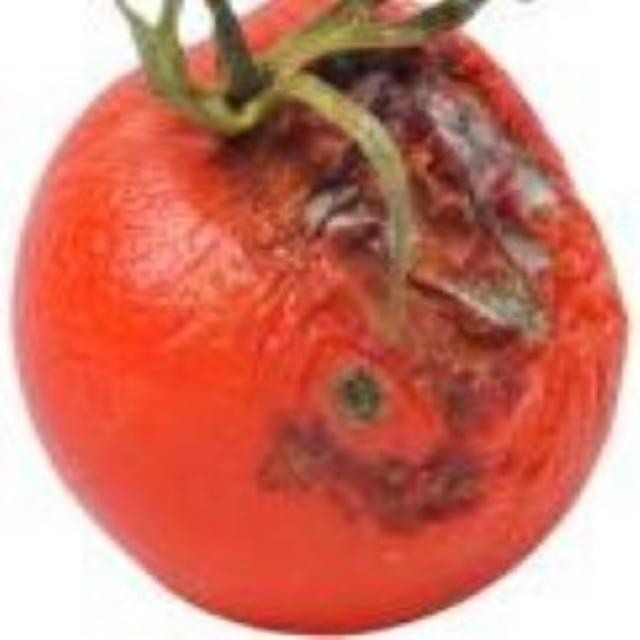defect: (5, 10, 630, 640)
